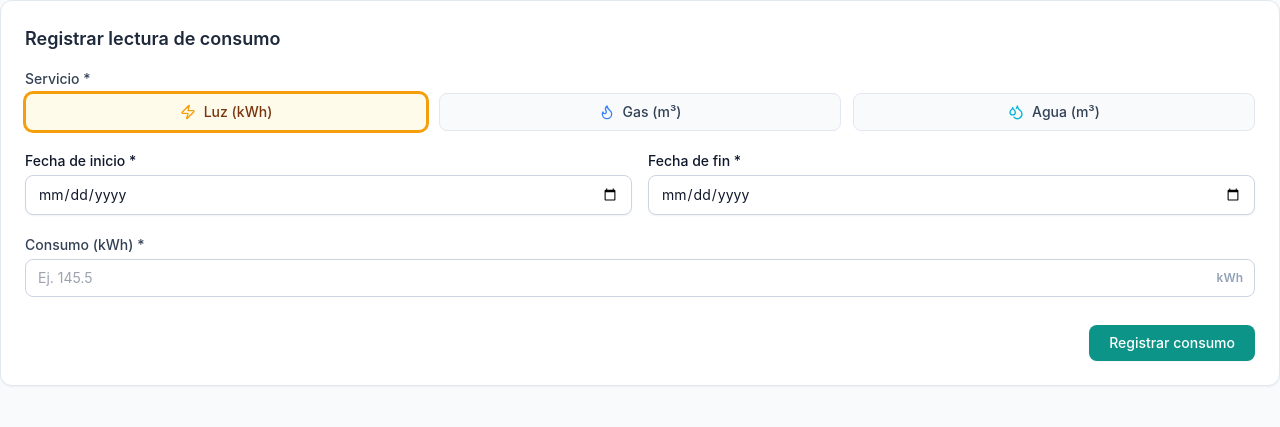
Test: FormularioConsumo (HU-08 / DET-16) › muestra errores de campo devueltos por el backend (409 / 422)
In the date field labelled "Fecha de inicio *": (328, 195) [25, 175, 632, 215], type "2026-08-15"
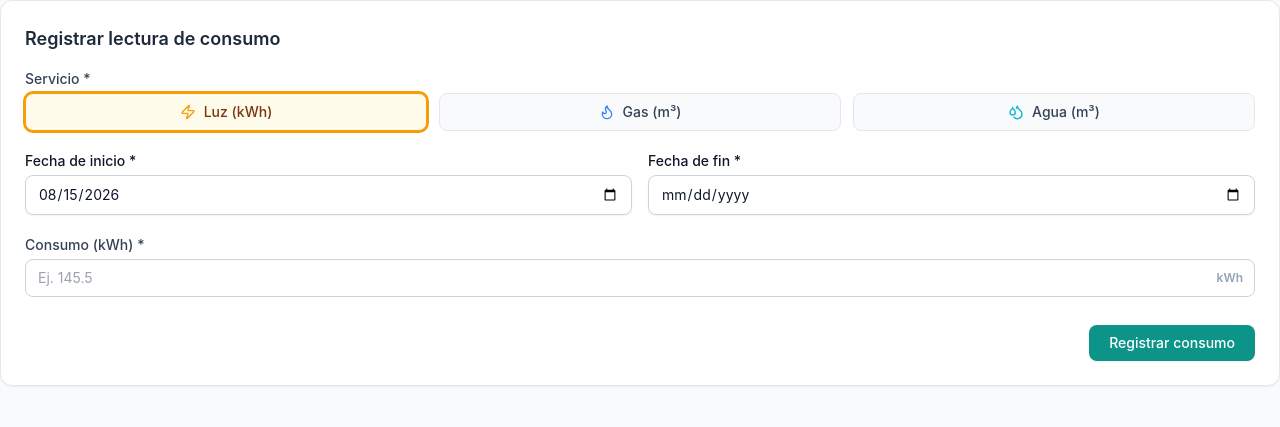
In the date field labelled "Fecha de fin *": (952, 195) [648, 175, 1255, 215], type "2026-09-15"
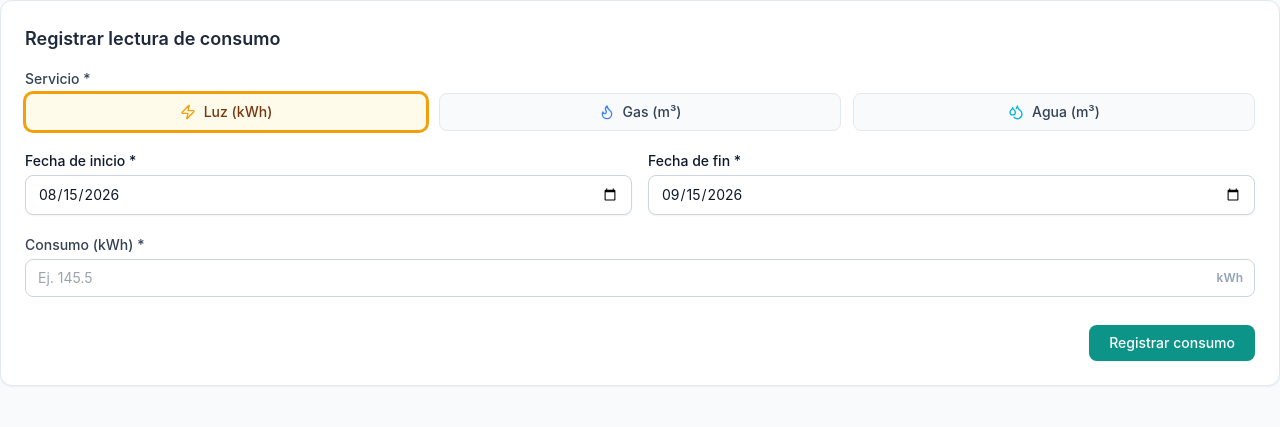
In the number field labelled "Consumo (kWh) *": (640, 278) [25, 259, 1255, 297], type "80"
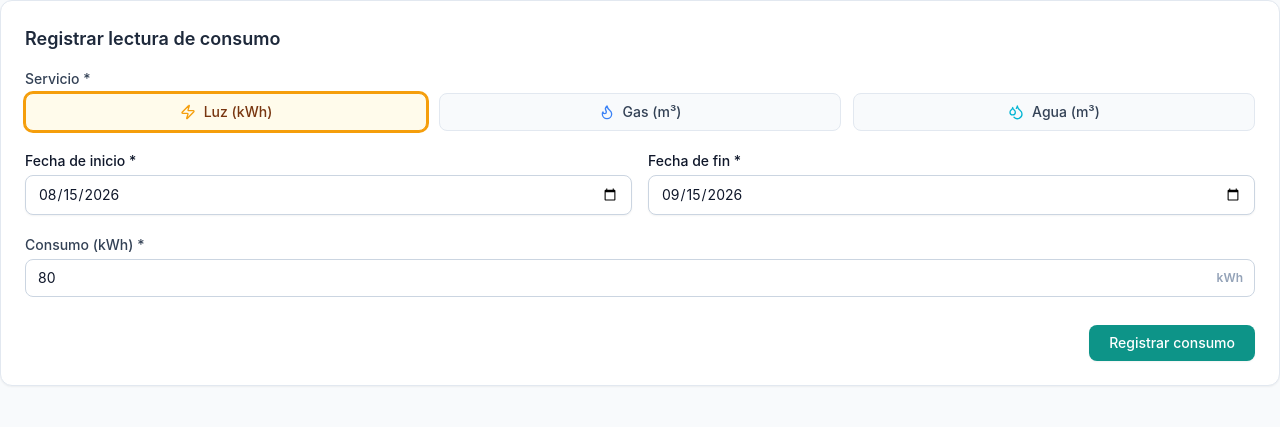
Click the button "Registrar consumo": (1172, 343) [1089, 325, 1255, 361]
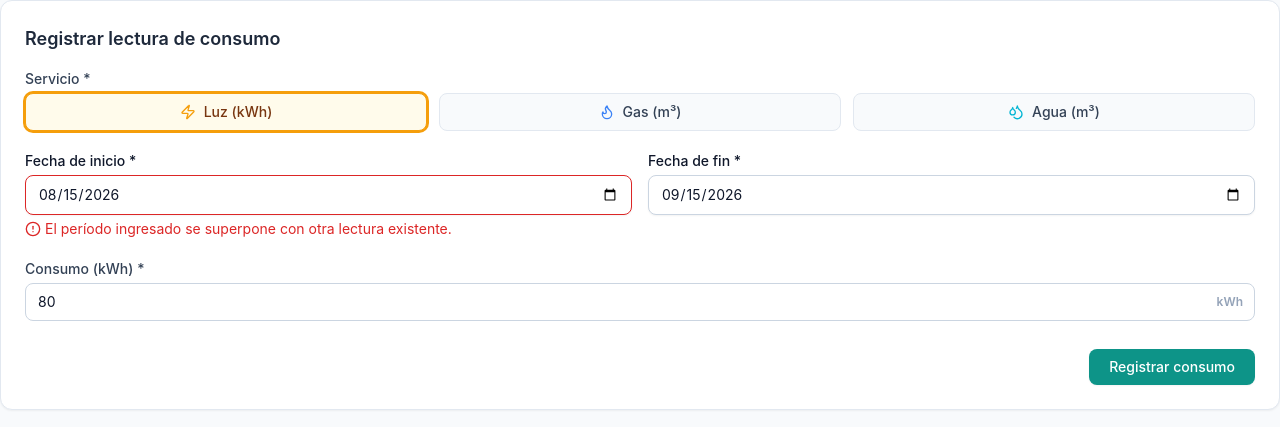
Now the text "El período ingresado se superpone con otra lectura existente." is shown, box [45, 219, 452, 239]
